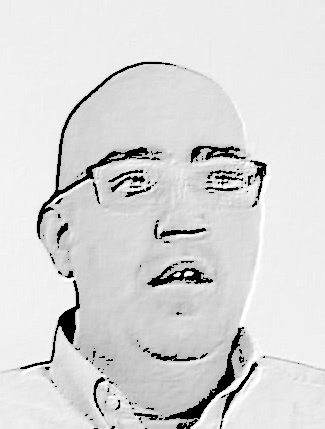nose_M_C: (152, 186, 211, 258)
